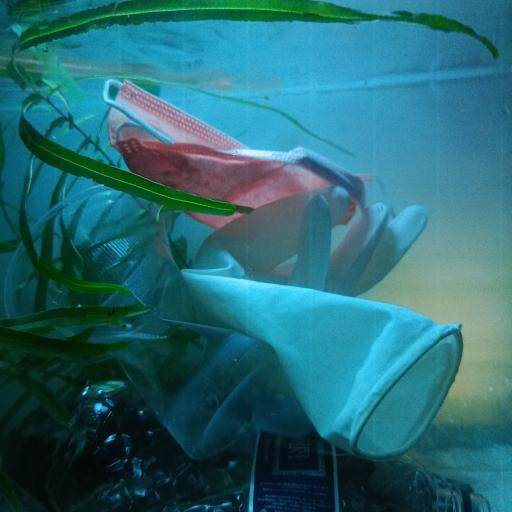glove: (178, 184, 463, 459)
mask: (102, 74, 358, 232)
plastic_bottle: (46, 380, 490, 512)
plastic_cup: (1, 183, 277, 458)
